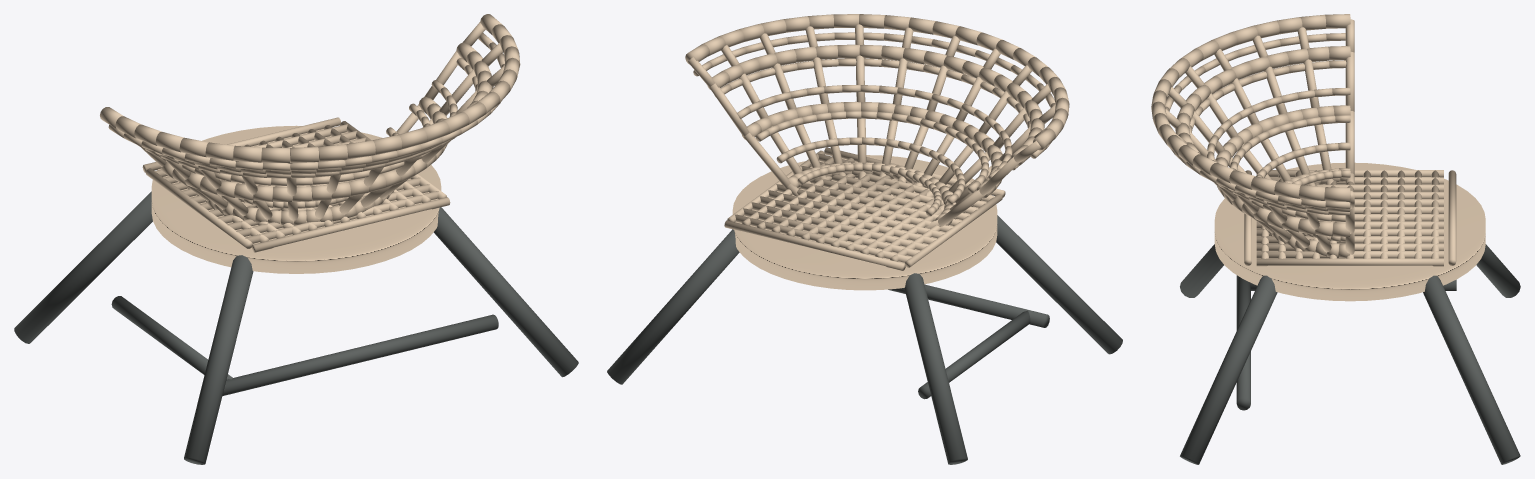
File: poltrona-trama.glb
3 renders of one model, left to right at view 1: azimuth 30°, elevation 25°; view 2: azimuth 150°, elevation 25°; view 3: azimuth 270°, elevation 25°, orthographic. The views are drawn at different scales.
Visible parts, largest first — view 1: Assento circular entrancado, Perna preta inclinada, Perna preta inclinada.002, Travessa frontal, Perna preta inclinada.001, Travessa lateral, Fio transversal do assento, Fio longitudinal do assento, Fio transversal do assento.001, Fio transversal do assento.012; view 2: Assento circular entrancado, Perna preta inclinada.001, Perna preta inclinada.003, Perna preta inclinada, Travessa frontal, Travessa lateral, Fio transversal do assento.012, Fio transversal do assento.011, Fio transversal do assento.009, Fio transversal do assento.010, Fio transversal do assento.008, Fio transversal do assento.007 (+13 smaller); view 3: Assento circular entrancado, Perna preta inclinada.003, Perna preta inclinada.002, Fio longitudinal do assento.012, Travessa frontal, Perna preta inclinada, Perna preta inclinada.001, Fio longitudinal do assento.011, Fio transversal do assento.012, Fio longitudinal do assento.010, Fio longitudinal do assento.009, Fio longitudinal do assento.002 (+20 smaller).
Part boxes in pixels (x1,y1,x2,y2): Assento circular entrancado: [151, 125, 441, 273]; Perna preta inclinada: [184, 255, 253, 464]; Perna preta inclinada.002: [433, 207, 578, 377]; Travessa frontal: [222, 314, 498, 395]; Perna preta inclinada.001: [14, 191, 152, 343]; Travessa lateral: [111, 296, 232, 379]; Fio transversal do assento: [252, 197, 450, 252]; Fio longitudinal do assento: [146, 168, 252, 248]; Fio transversal do assento.001: [245, 191, 438, 243]; Fio transversal do assento.012: [142, 117, 340, 172]; Assento circular entrancado: [732, 155, 997, 290]; Perna preta inclinada.001: [904, 273, 967, 464]; Perna preta inclinada.003: [607, 229, 739, 384]; Perna preta inclinada: [996, 215, 1122, 354]; Travessa frontal: [888, 284, 1049, 327]; Travessa lateral: [918, 310, 1030, 399]; Fio transversal do assento.012: [724, 220, 905, 270]; Fio transversal do assento.011: [735, 214, 911, 262]; Fio transversal do assento.009: [751, 202, 928, 250]; Fio transversal do assento.010: [743, 208, 920, 256]; Fio transversal do assento.008: [760, 196, 936, 244]; Fio transversal do assento.007: [768, 190, 944, 238]; Assento circular entrancado: [1214, 162, 1485, 301]; Perna preta inclinada.003: [1423, 275, 1520, 464]; Perna preta inclinada.002: [1180, 275, 1277, 464]; Fio longitudinal do assento.012: [1256, 258, 1443, 266]; Travessa frontal: [1236, 275, 1250, 410]; Perna preta inclinada: [1180, 244, 1223, 297]; Perna preta inclinada.001: [1476, 244, 1520, 297]; Fio longitudinal do assento.011: [1256, 251, 1443, 258]; Fio transversal do assento.012: [1448, 170, 1456, 265]; Fio longitudinal do assento.010: [1256, 243, 1443, 250]; Fio longitudinal do assento.009: [1256, 236, 1443, 243]; Fio longitudinal do assento.002: [1308, 184, 1443, 191].
Bounding box in the file's own units: 0.7201 × 0.5219 × 0.6254.
